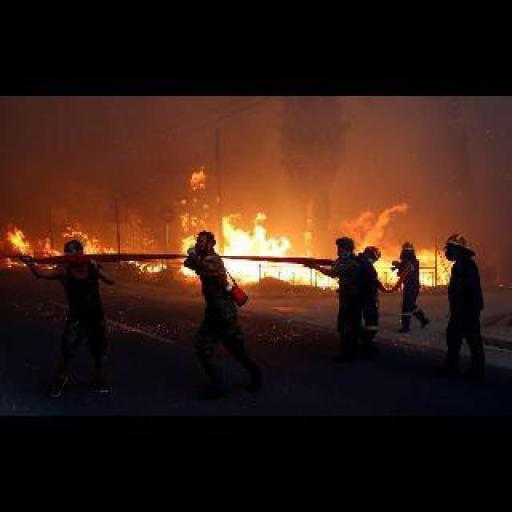smoke: (171, 160, 315, 296), (318, 202, 458, 291), (2, 216, 164, 278)
